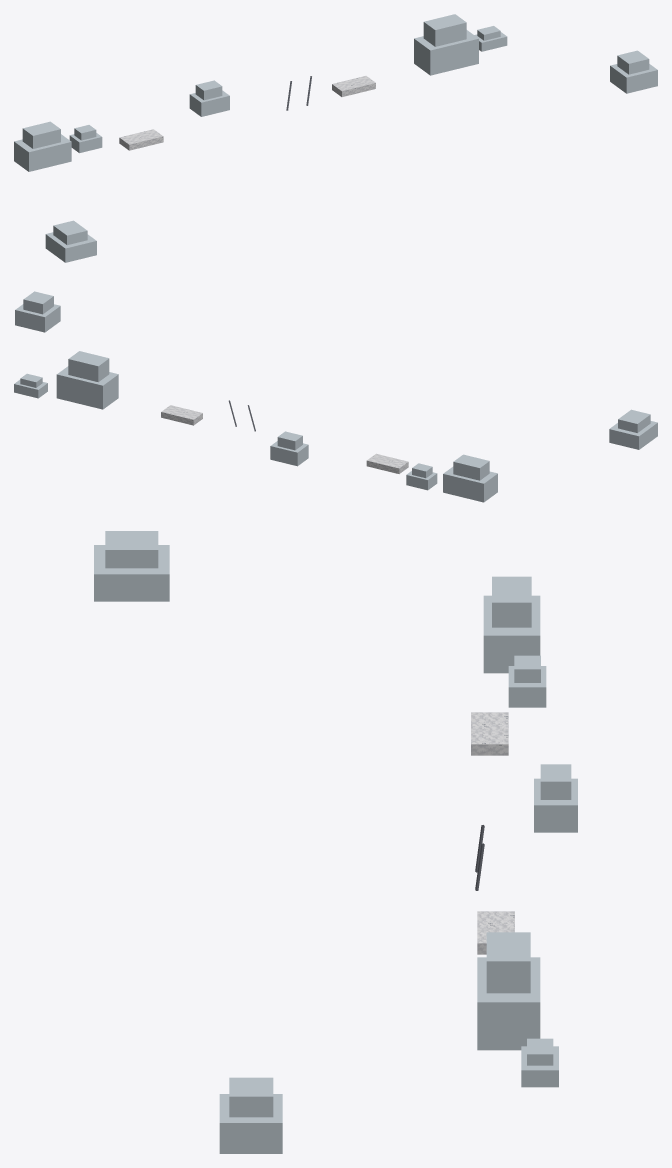
Rendered from st_snow.glb.
3 renders of one model, top to bottom at view 1: azimuth 30°, elevation 25°; view 2: azimuth 150°, elevation 25°; view 3: azimuth 270°, elevation 25°, orthographic. The views are drawn at different scales.
Parts seen in each view (by area): view 1: ice, snow; view 2: ice, snow; view 3: ice, snow.
Boxes of the visible parts, box(x1,y1,x2,y2) form: ice: box(14, 14, 657, 262); snow: box(119, 76, 375, 150); ice: box(14, 291, 657, 502); snow: box(161, 405, 408, 473); ice: box(94, 531, 577, 1153); snow: box(471, 712, 514, 954).
Size of the model in its own units: 438 by 28.02 by 154.
Materials: 3 (1 with a texture image).
